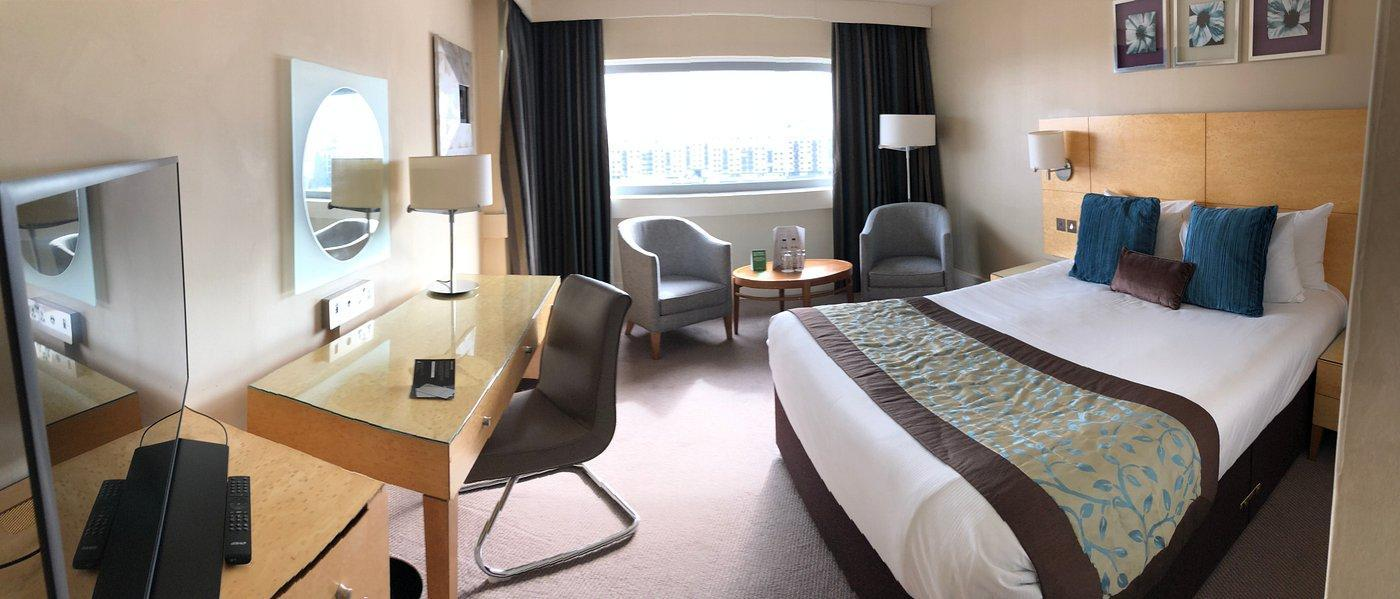chair: (468, 274, 642, 578), (618, 215, 736, 349), (860, 206, 952, 293)
clean_bed: (771, 192, 1346, 598)
clean_floor: (473, 316, 842, 596)
lamp: (410, 156, 491, 298)
organised_pillow: (1073, 189, 1327, 318)
organized table: (248, 272, 554, 598), (736, 226, 853, 306)
